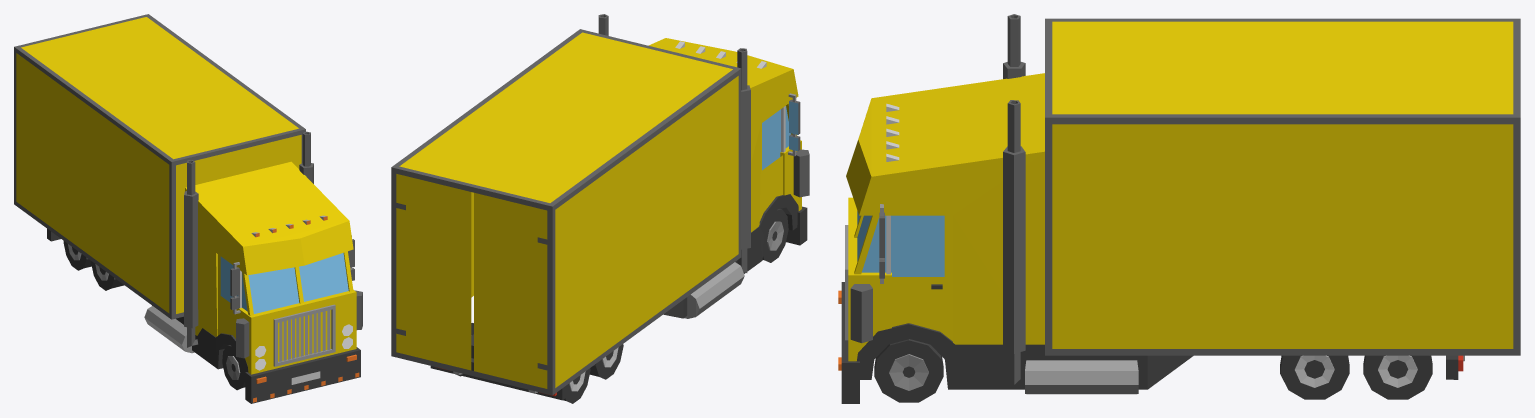
File: Truck_1.fbx
3 renders of one model, left to right at view 1: azimuth 30°, elevation 25°; view 2: azimuth 150°, elevation 25°; view 3: azimuth 270°, elevation 25°, orthographic. The views are drawn at different scales.
Visible parts, largest first — view 1: Truck_1; view 2: Truck_1; view 3: Truck_1.
Part boxes in pixels (bbox=[...]): Truck_1: bbox=[14, 14, 362, 403]; Truck_1: bbox=[391, 14, 809, 403]; Truck_1: bbox=[838, 14, 1520, 403].
Bounding box in the file's own units: 1.1 × 1.59 × 3.21.
